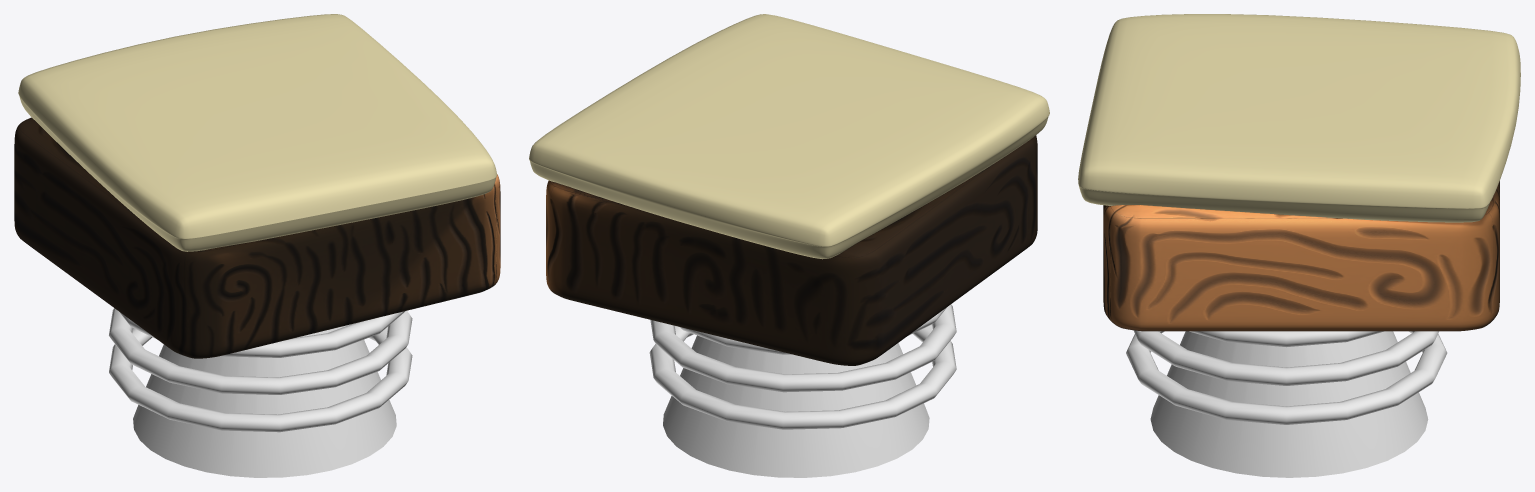
Rendered from Mesh_Chair.fbx.
3 renders of one model, left to right at view 1: azimuth 30°, elevation 25°; view 2: azimuth 150°, elevation 25°; view 3: azimuth 270°, elevation 25°, orthographic. The views are drawn at different scales.
Visible parts, largest first — view 1: Cushion, Chair, Glass foot, Ring 3, Ring 2, Ring; view 2: Cushion, Chair, Glass foot, Ring 3, Ring 2, Ring; view 3: Cushion, Chair, Glass foot, Ring 3, Ring 2, Ring.
Part boxes in pixels (x1=…): Cushion: x1=18, y1=14, x2=496, y2=251; Chair: x1=14, y1=117, x2=500, y2=358; Glass foot: x1=133, y1=324, x2=396, y2=477; Ring 3: x1=109, y1=327, x2=412, y2=432; Ring 2: x1=109, y1=308, x2=412, y2=394; Ring: x1=118, y1=311, x2=405, y2=357; Cushion: x1=529, y1=14, x2=1049, y2=259; Chair: x1=546, y1=135, x2=1037, y2=365; Glass foot: x1=663, y1=335, x2=929, y2=477; Ring 3: x1=649, y1=324, x2=956, y2=429; Ring 2: x1=650, y1=304, x2=956, y2=392; Ring: x1=679, y1=307, x2=946, y2=354; Cushion: x1=1078, y1=14, x2=1520, y2=222; Chair: x1=1103, y1=181, x2=1499, y2=331; Glass foot: x1=1150, y1=331, x2=1428, y2=477; Ring 3: x1=1126, y1=331, x2=1447, y2=424; Ring 2: x1=1133, y1=330, x2=1438, y2=385; Ring: x1=1189, y1=331, x2=1383, y2=347.
Bounding box in the file's own units: 52.13 × 44.5 × 54.93.
